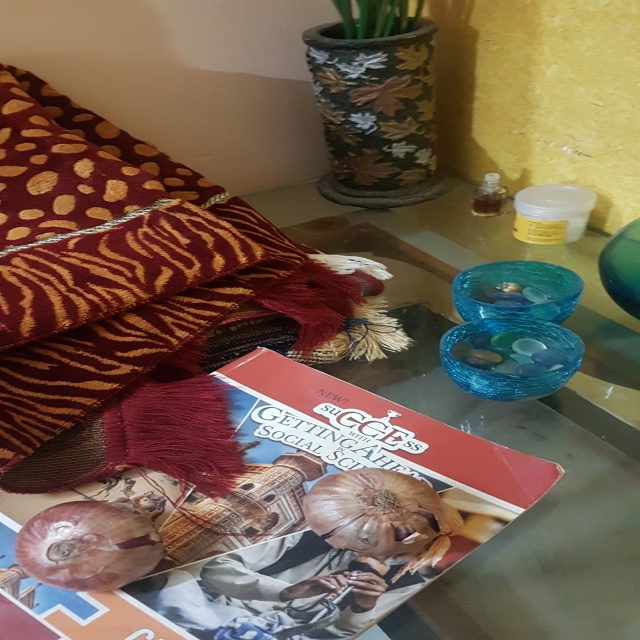onion: (15, 499, 182, 591), (302, 467, 453, 560)
